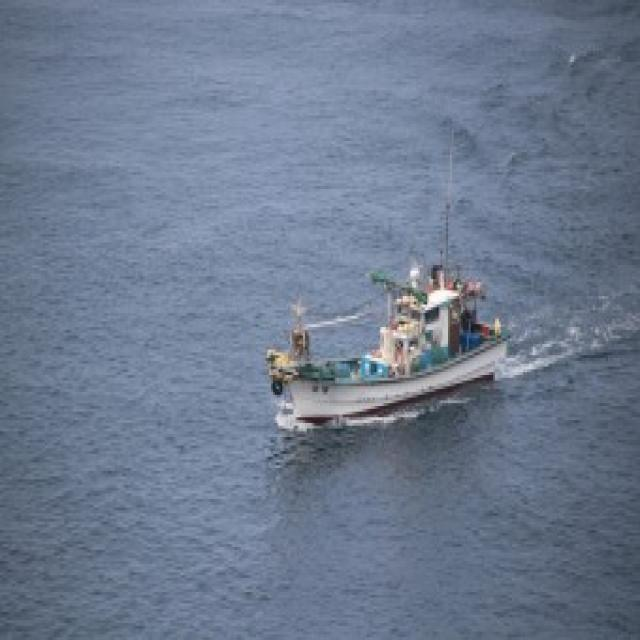Ship: (261, 241, 519, 447)
